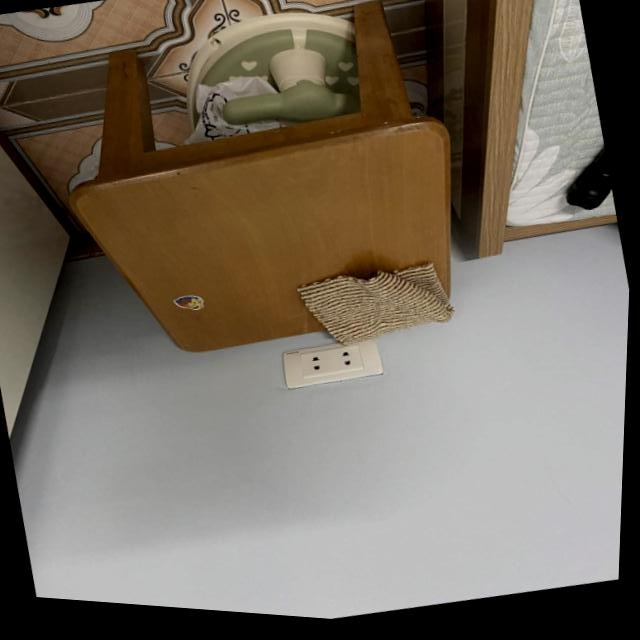outlet: (280, 328, 388, 396)
